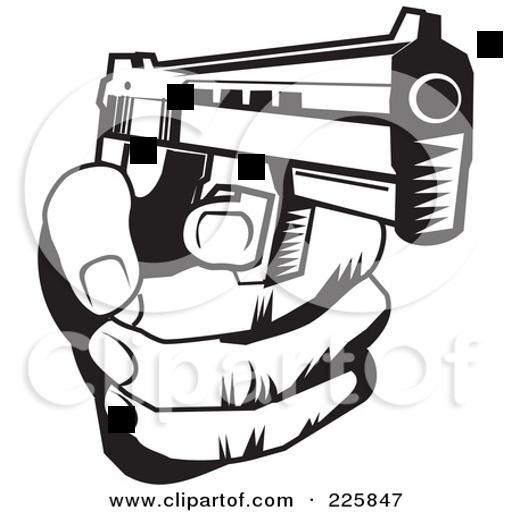Handgun: (94, 4, 478, 268)
